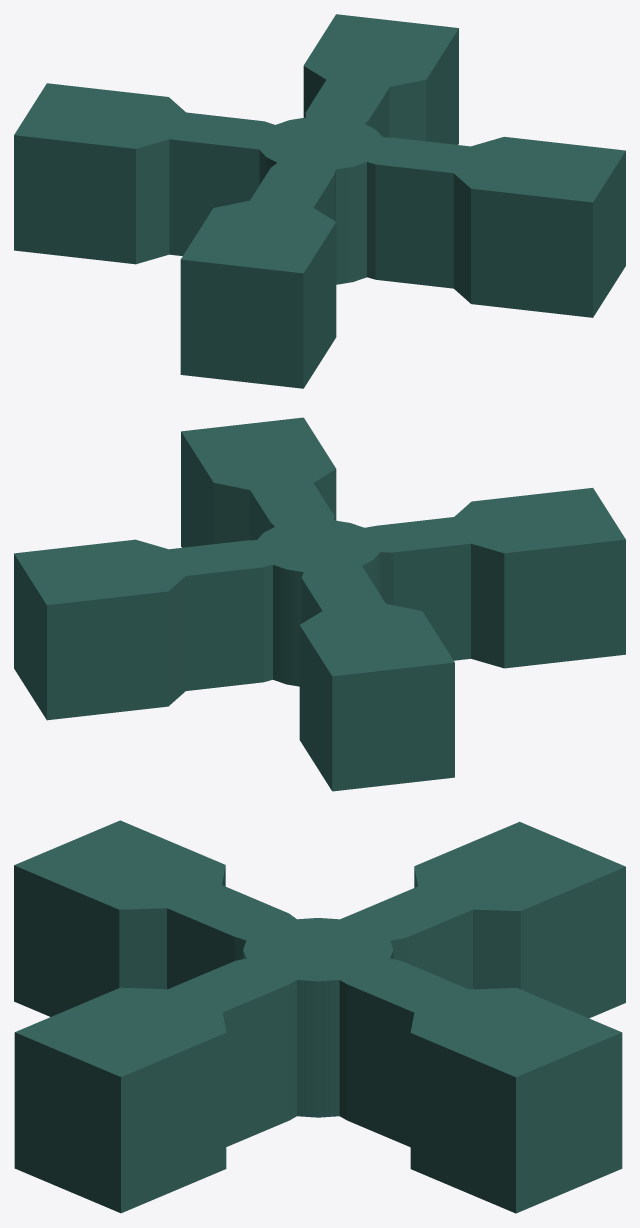
Rendered from Space_test_001.fbx.
3 views of the same model, one above another, from view 1: azimuth 30°, elevation 25°; view 2: azimuth 150°, elevation 25°; view 3: azimuth 270°, elevation 25° (orthographic). The views are drawn at different scales.
Visible parts, largest first — view 1: pCube8; view 2: pCube8; view 3: pCube8.
Boxes of the visible parts, box(x1,y1,x2,y2) form: pCube8: box(14, 14, 625, 388); pCube8: box(14, 417, 625, 791); pCube8: box(14, 820, 625, 1213).
Size of the model in its own units: 25.08 by 6.2 by 25.24.
